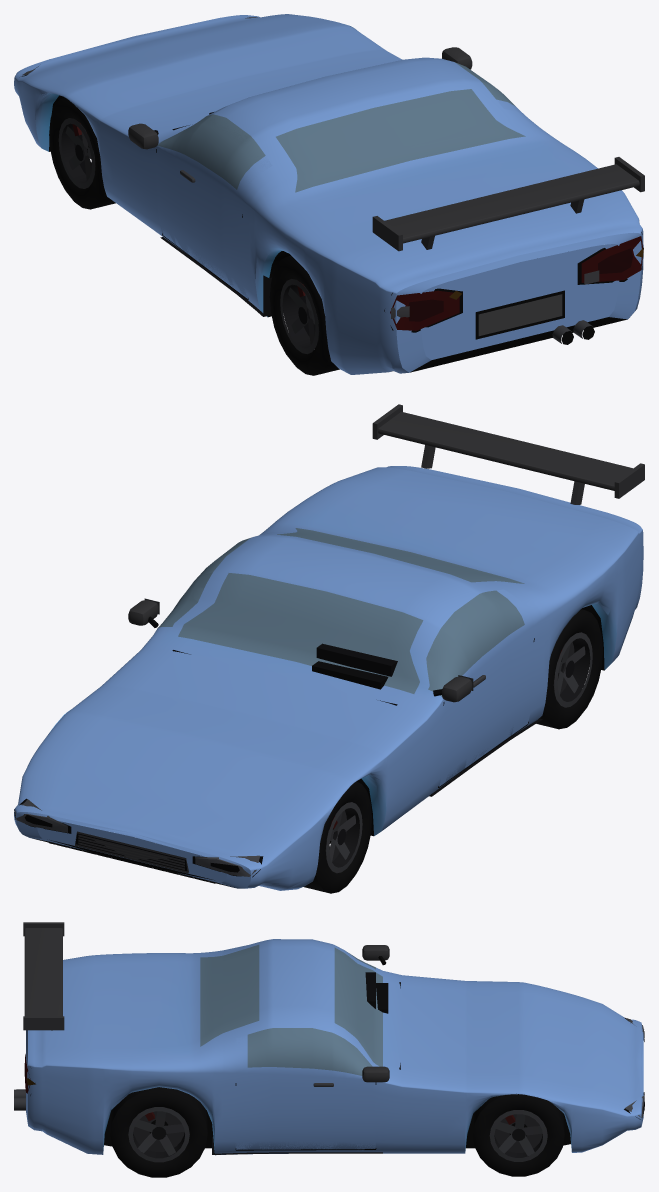
The model's file is cv2_sports.glb.
3 renders of one model, top to bottom at view 1: azimuth 30°, elevation 25°; view 2: azimuth 150°, elevation 25°; view 3: azimuth 270°, elevation 25°, orthographic. The views are drawn at different scales.
Visible parts, largest first — view 1: Body, DoorL_Mesh; view 2: Body, DoorL_Mesh, DoorR_Mesh; view 3: Body, DoorR_Mesh.
Boxes of the visible parts, <box> form: Body: <box>14,14,644,375</box>; DoorL_Mesh: <box>156,114,272,298</box>; Body: <box>14,404,644,893</box>; DoorL_Mesh: <box>426,589,534,788</box>; DoorR_Mesh: <box>159,534,264,627</box>; Body: <box>14,922,644,1177</box>; DoorR_Mesh: <box>235,1028,375,1150</box>.
Size of what is drawn, in the model's own units: 2.22 by 1.25 by 4.6.
